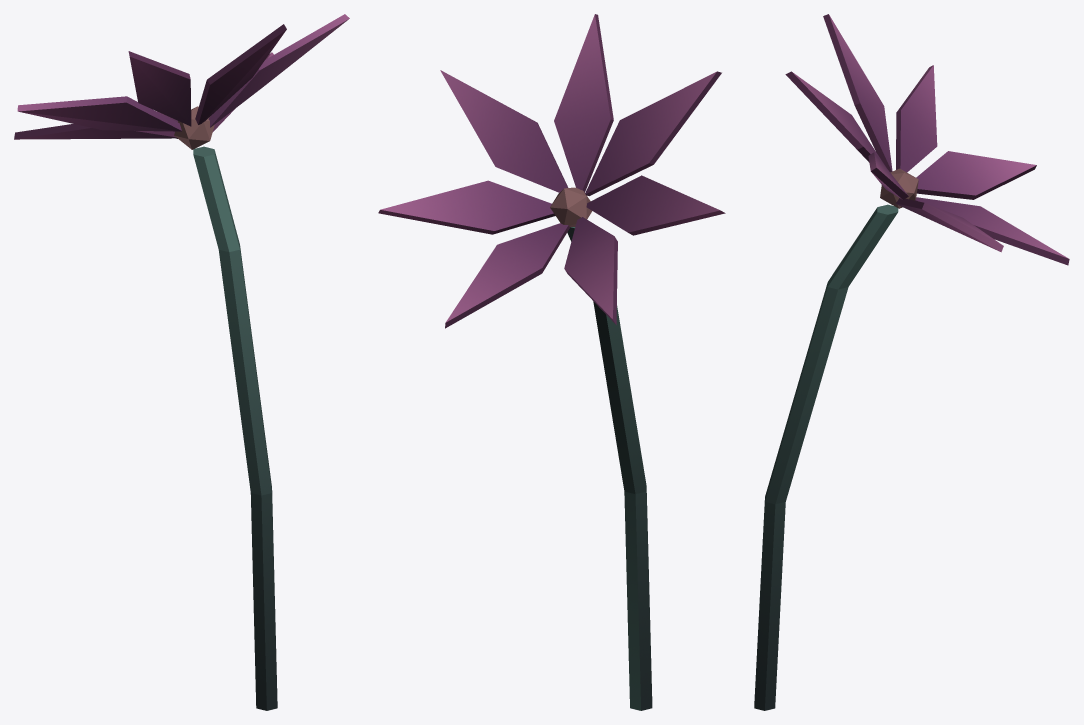
Rendered from Flor Curva 1.obj.
3 views of the same model, side by side, from view 1: azimuth 30°, elevation 25°; view 2: azimuth 150°, elevation 25°; view 3: azimuth 270°, elevation 25° (orthographic). The views are drawn at different scales.
Parts seen in each view (by area): view 1: Flor Curva 1; view 2: Flor Curva 1; view 3: Flor Curva 1.
Part boxes in pixels (left/top/right/bottom): Flor Curva 1: left=14, top=14, right=349, bottom=710; Flor Curva 1: left=378, top=14, right=725, bottom=710; Flor Curva 1: left=754, top=14, right=1069, bottom=710.
Size of the model in its own units: 0.3127 by 0.6563 by 0.2889.
Materials: 1 (1 with a texture image).
